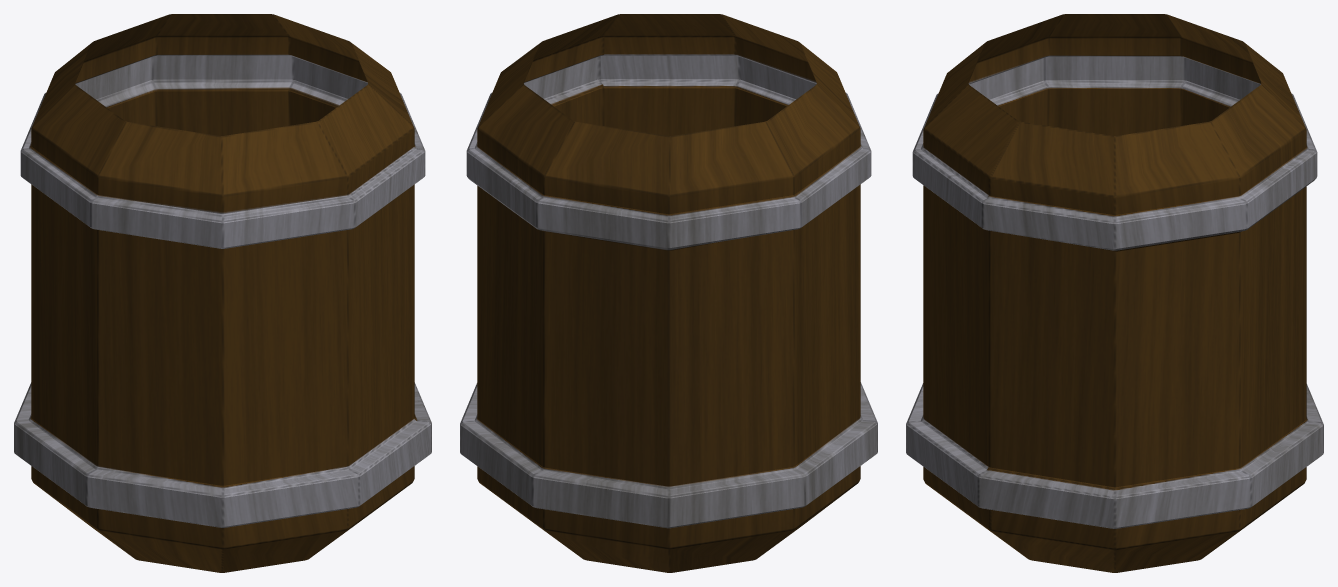
Rendered from Barril.fbx.
3 renders of one model, left to right at view 1: azimuth 30°, elevation 25°; view 2: azimuth 150°, elevation 25°; view 3: azimuth 270°, elevation 25°, orthographic.
Visible parts, largest first — view 1: pCylinder1; view 2: pCylinder1; view 3: pCylinder1.
Boxes of the visible parts, left/top/right/bottom form: pCylinder1: left=14, top=14, right=431, bottom=572; pCylinder1: left=460, top=14, right=877, bottom=572; pCylinder1: left=906, top=14, right=1323, bottom=572.
Size of the model in its own units: 2.11 by 2.51 by 2.14.
Materials: 1 (1 with a texture image).
